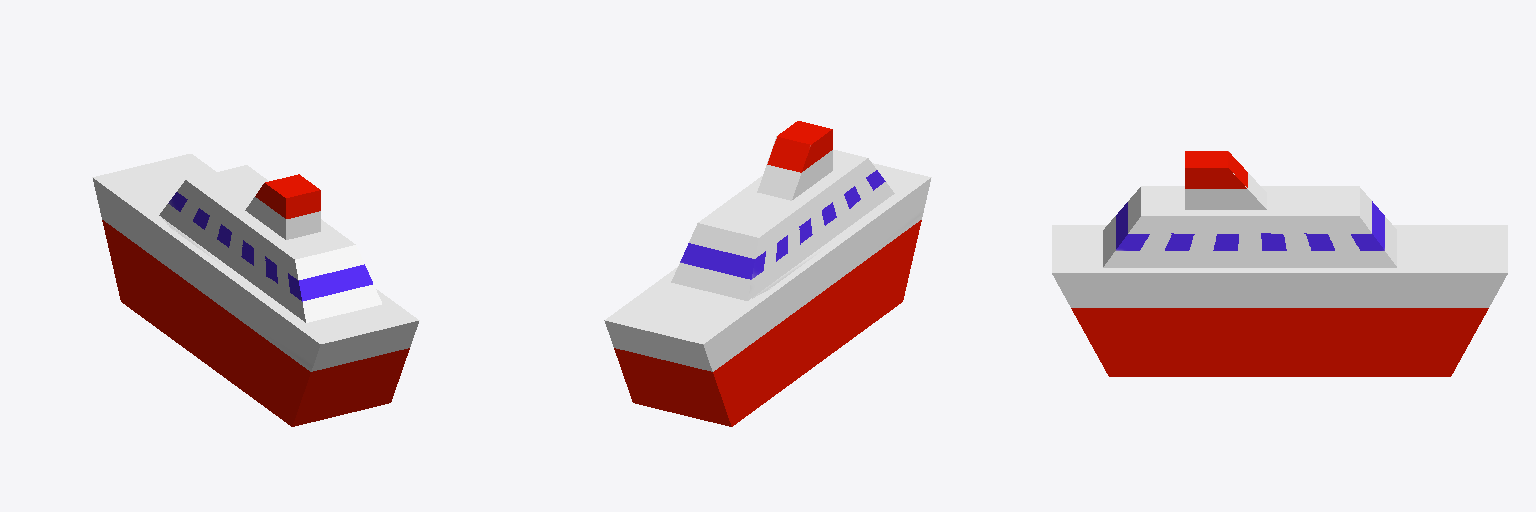
3 renders of one model, left to right at view 1: azimuth 30°, elevation 25°; view 2: azimuth 150°, elevation 25°; view 3: azimuth 270°, elevation 25°, orthographic.
Parts seen in each view (by area): view 1: Cube_Cube.001; view 2: Cube_Cube.001; view 3: Cube_Cube.001.
Part boxes in pixels (left/top/right/bottom): Cube_Cube.001: left=92, top=154, right=419, bottom=426; Cube_Cube.001: left=604, top=121, right=931, bottom=426; Cube_Cube.001: left=1052, top=151, right=1507, bottom=376.
Bounding box in the file's own units: 2.74 × 5.12 × 10.98.
1 materials, 1 textured.